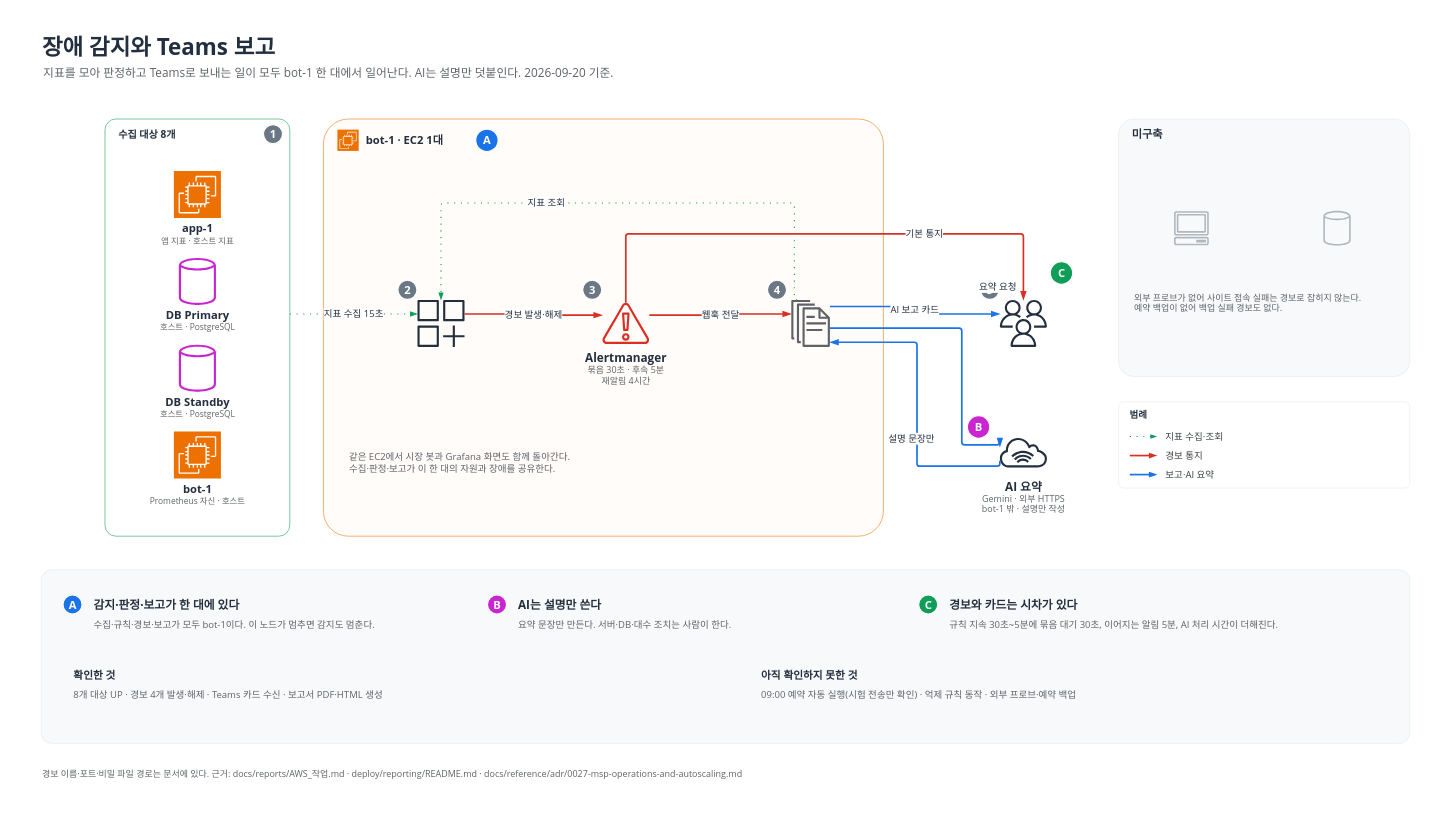
This 1453x825 diagram has some shape labels left out. The box of each missing label's shape, as (x1, y1, x2, y2) in pixels:
Microsoft Teams: (1000, 300, 1047, 347)
Prometheus 규칙 10개 · 15초 평가 발생·해제 확인은 4개: (417, 300, 464, 347)
보고 서비스 PDF 2쪽 + HTML: (787, 300, 834, 347)
예약 백업 예약 없음: (1319, 211, 1354, 245)
외부 프로브 수집 대상 없음: (1174, 211, 1208, 245)
